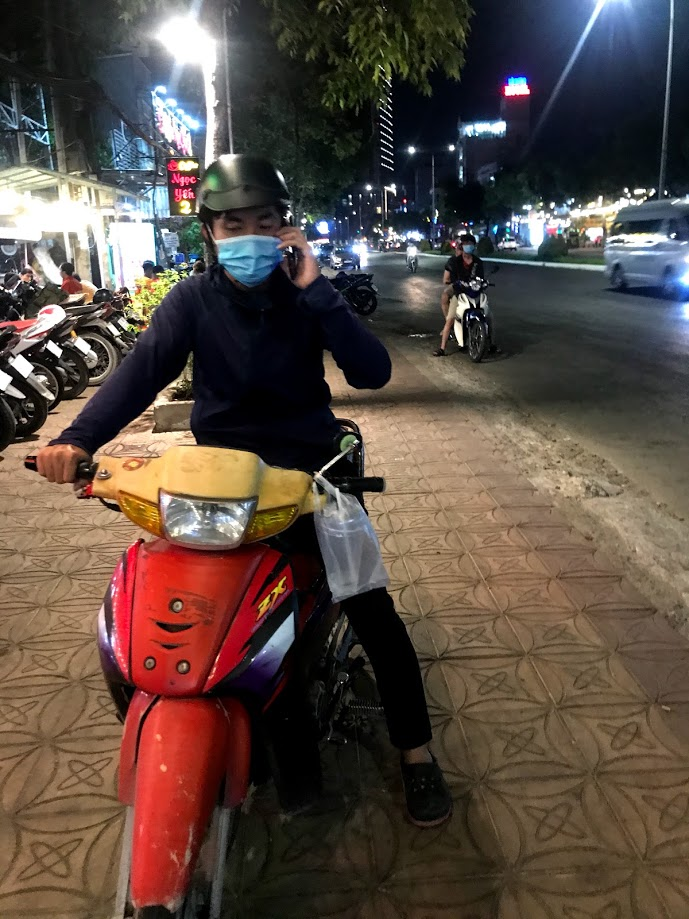dieu khien xe may: (84, 149, 391, 702)
su dung dien thoai: (193, 152, 332, 319)
